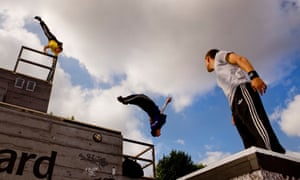Person: (200, 48, 290, 156), (117, 89, 177, 138), (30, 14, 66, 68)
